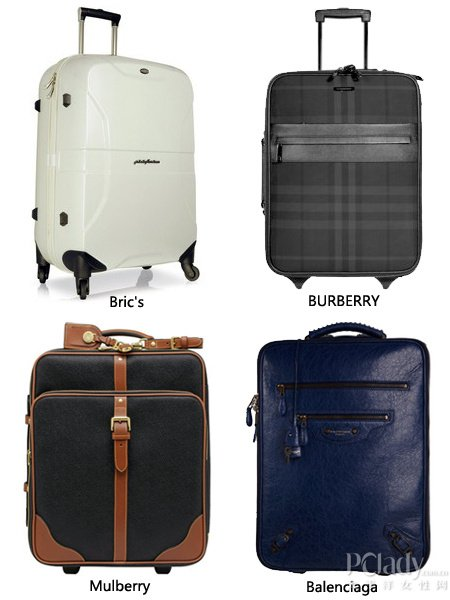suitcase: (28, 3, 200, 299), (20, 322, 215, 577), (254, 7, 426, 292)
